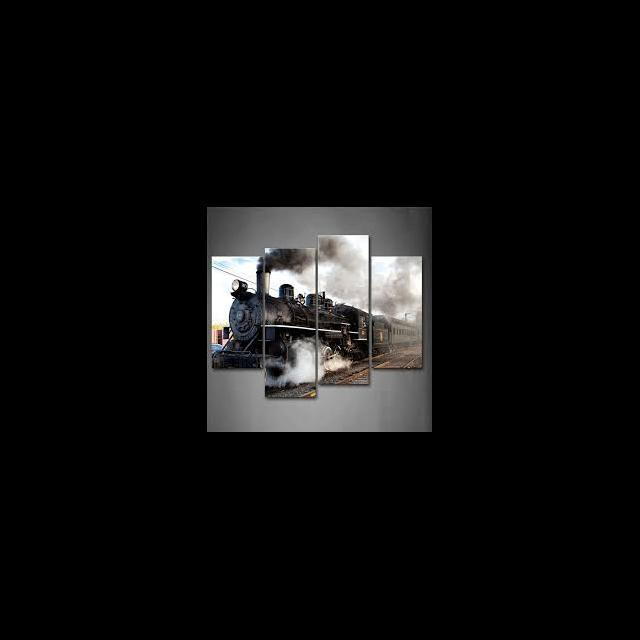Smoke: (320, 237, 368, 308), (374, 258, 422, 314), (272, 341, 314, 390), (272, 252, 302, 280)
